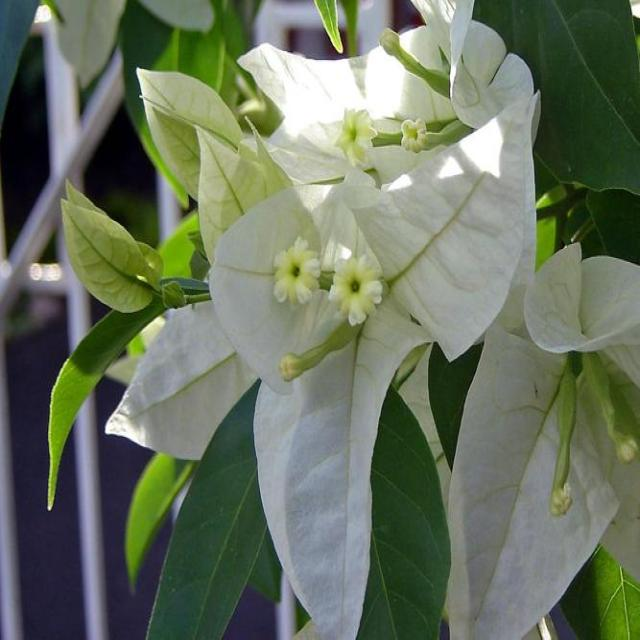bougainvillea: (148, 121, 453, 630), (446, 216, 640, 640)
